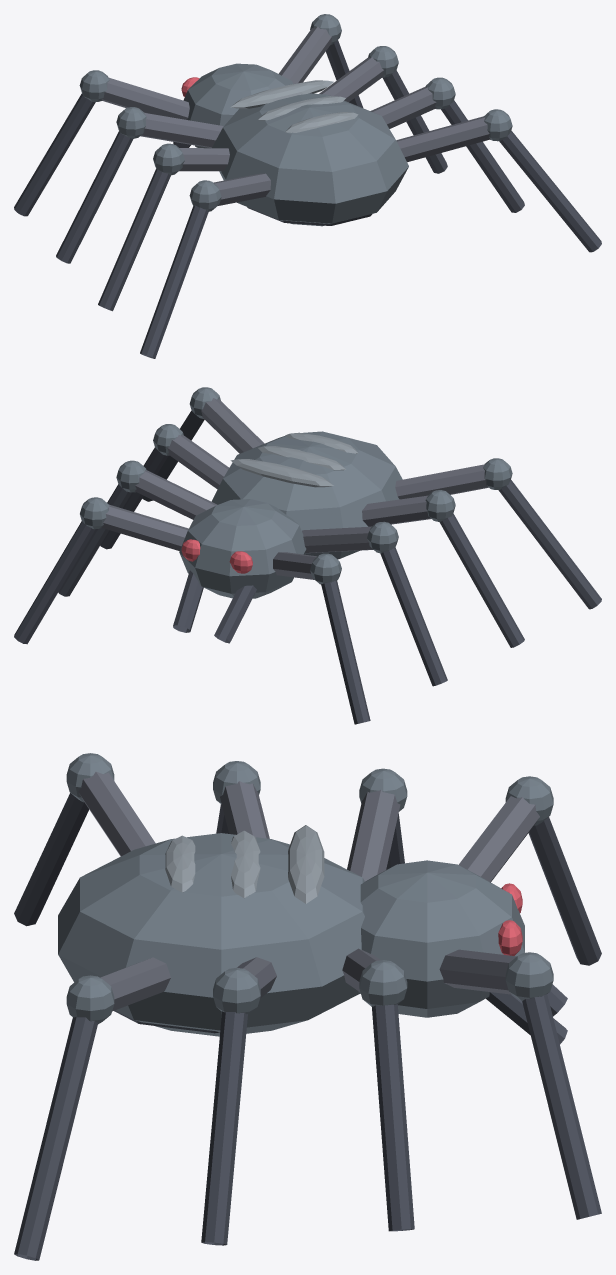
File: spider_normal.glb
3 views of the same model, one above another, from view 1: azimuth 30°, elevation 25°; view 2: azimuth 150°, elevation 25°; view 3: azimuth 270°, elevation 25° (orthographic). The views are drawn at different scales.
Bounding box in the file's own units: 3.64 × 1.15 × 2.57.
